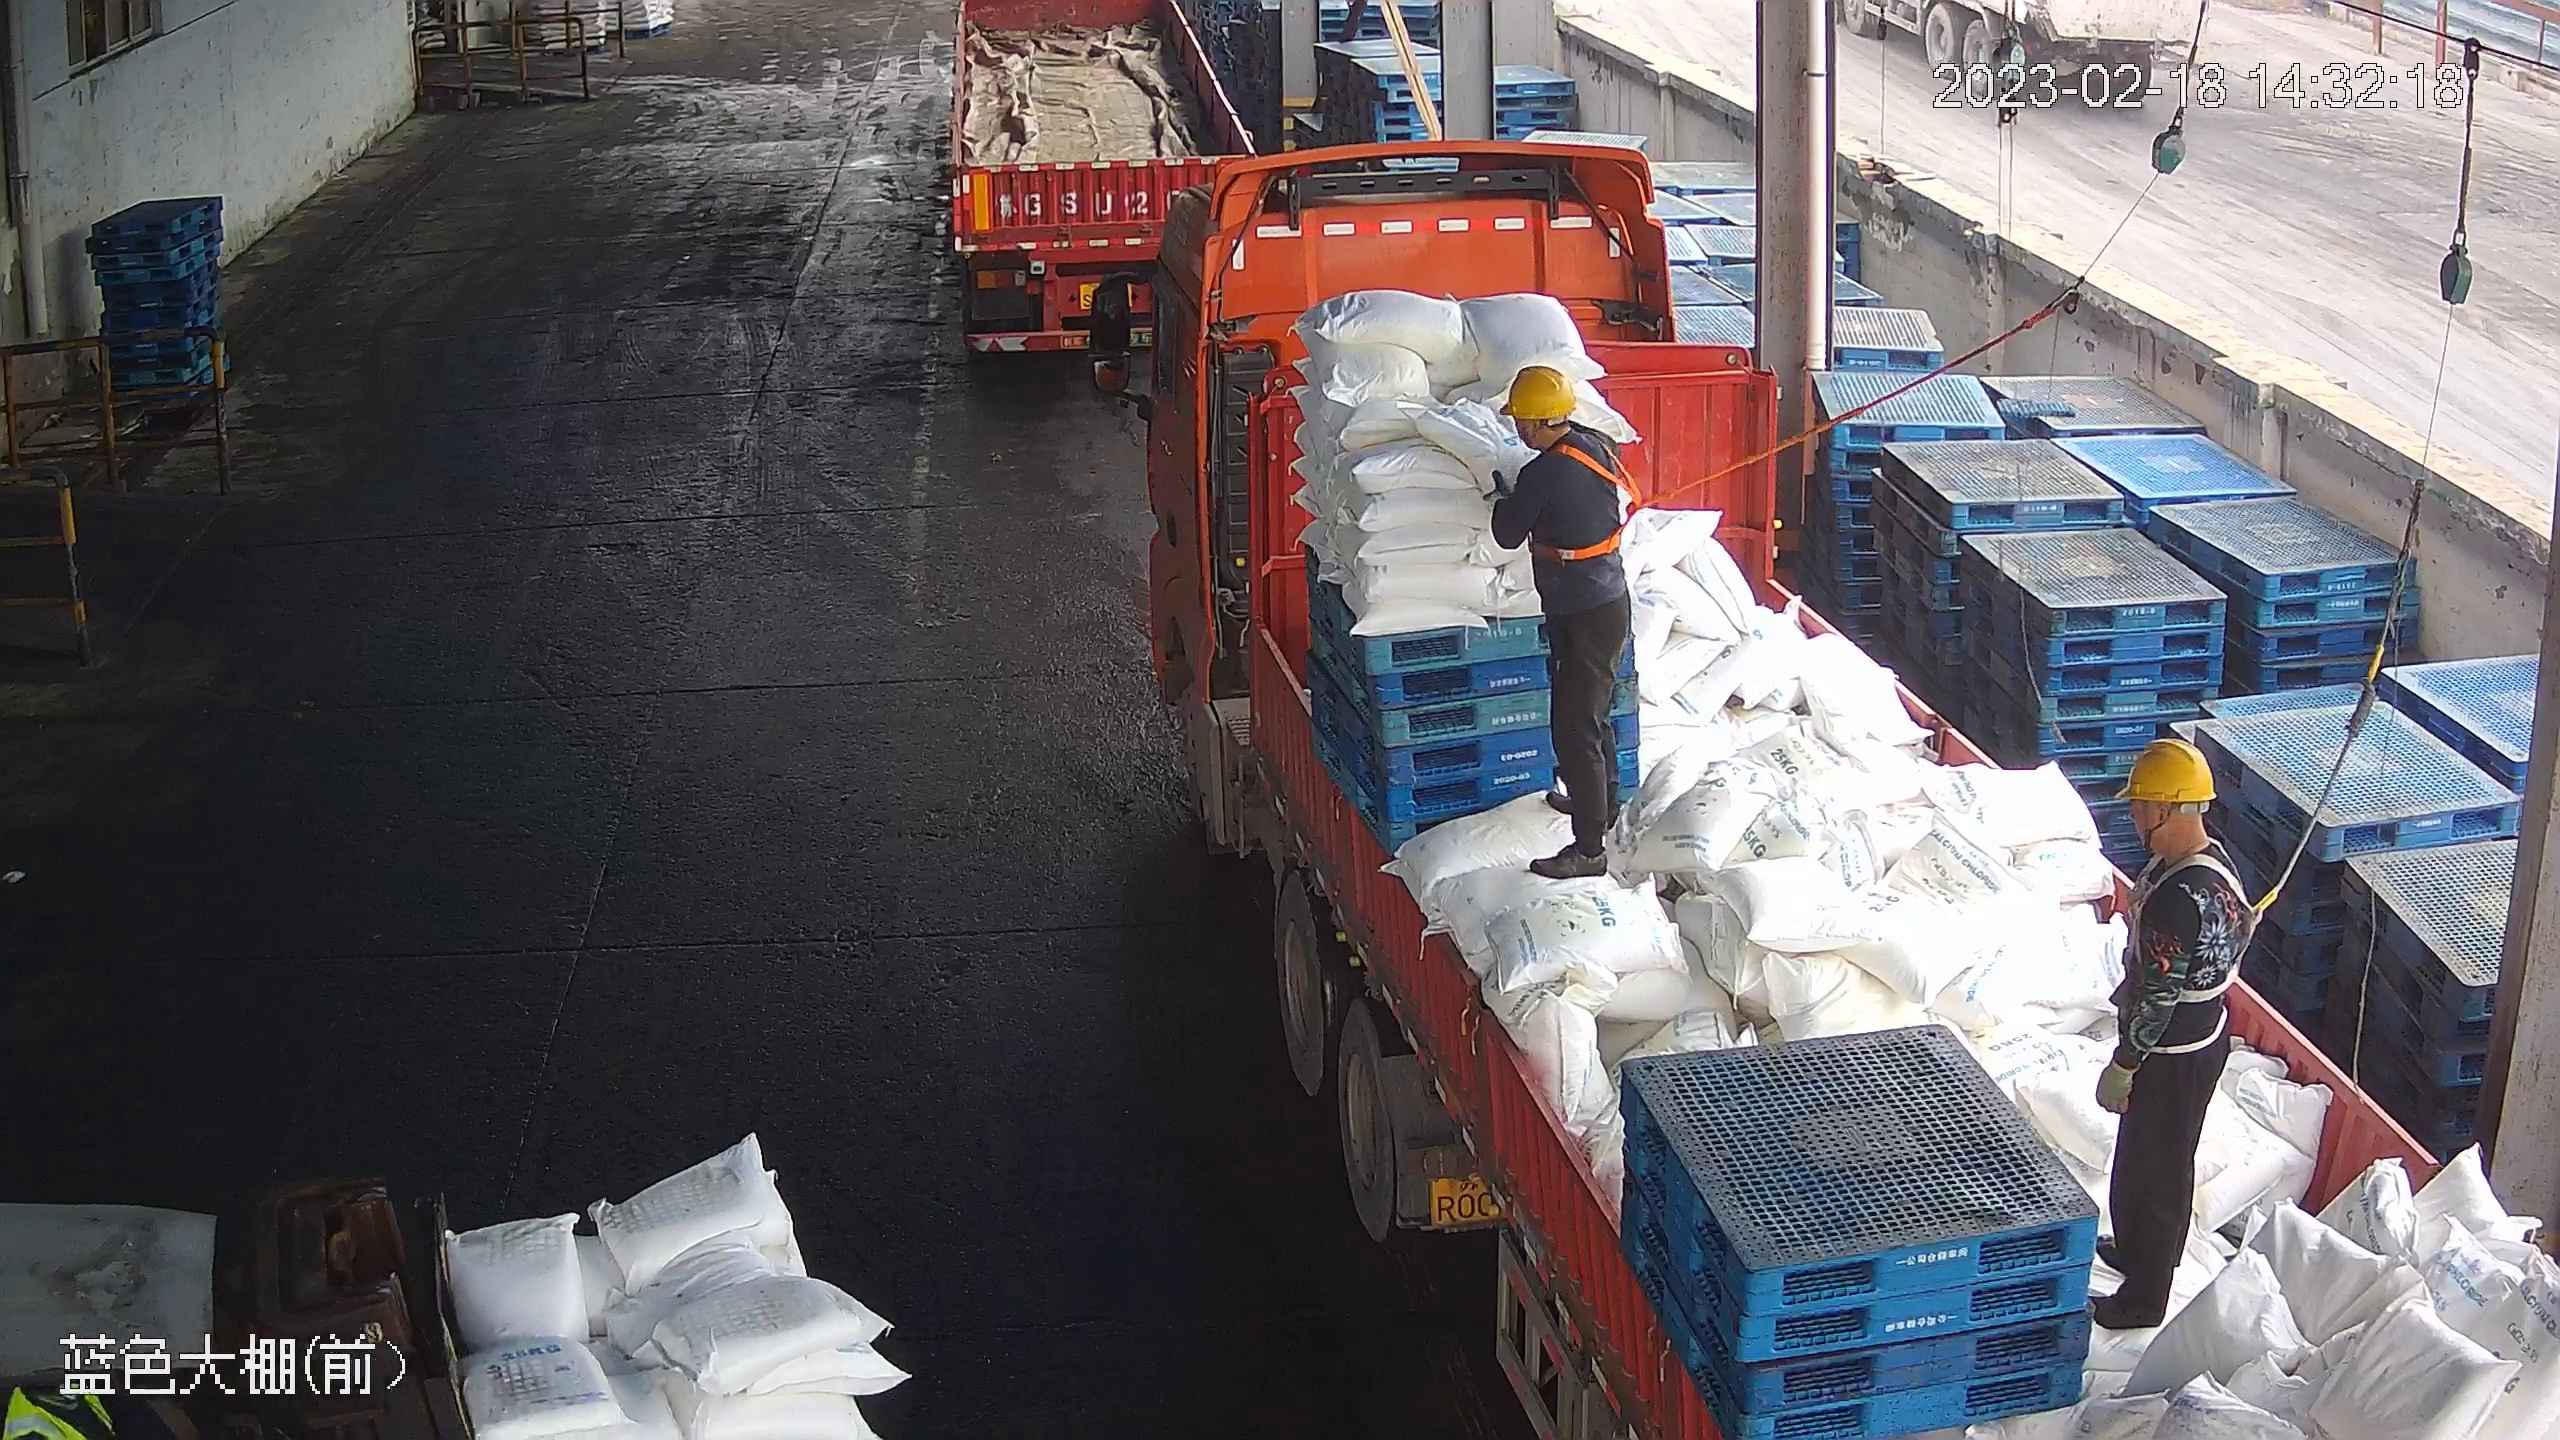belt: (2130, 850, 2264, 1007), (1547, 430, 1650, 564)
head: (2113, 735, 2247, 930), (1488, 361, 1627, 526)
helmet: (2115, 734, 2216, 804), (1500, 362, 1579, 420)
people: (2080, 733, 2253, 1341), (1484, 361, 1638, 879)
truck: (1078, 137, 2547, 1431), (937, 2, 1266, 373)
